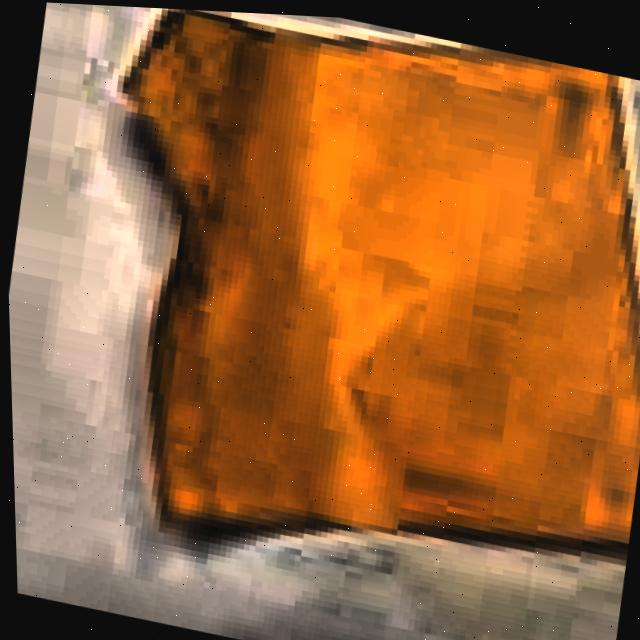paper: (111, 7, 640, 540)
